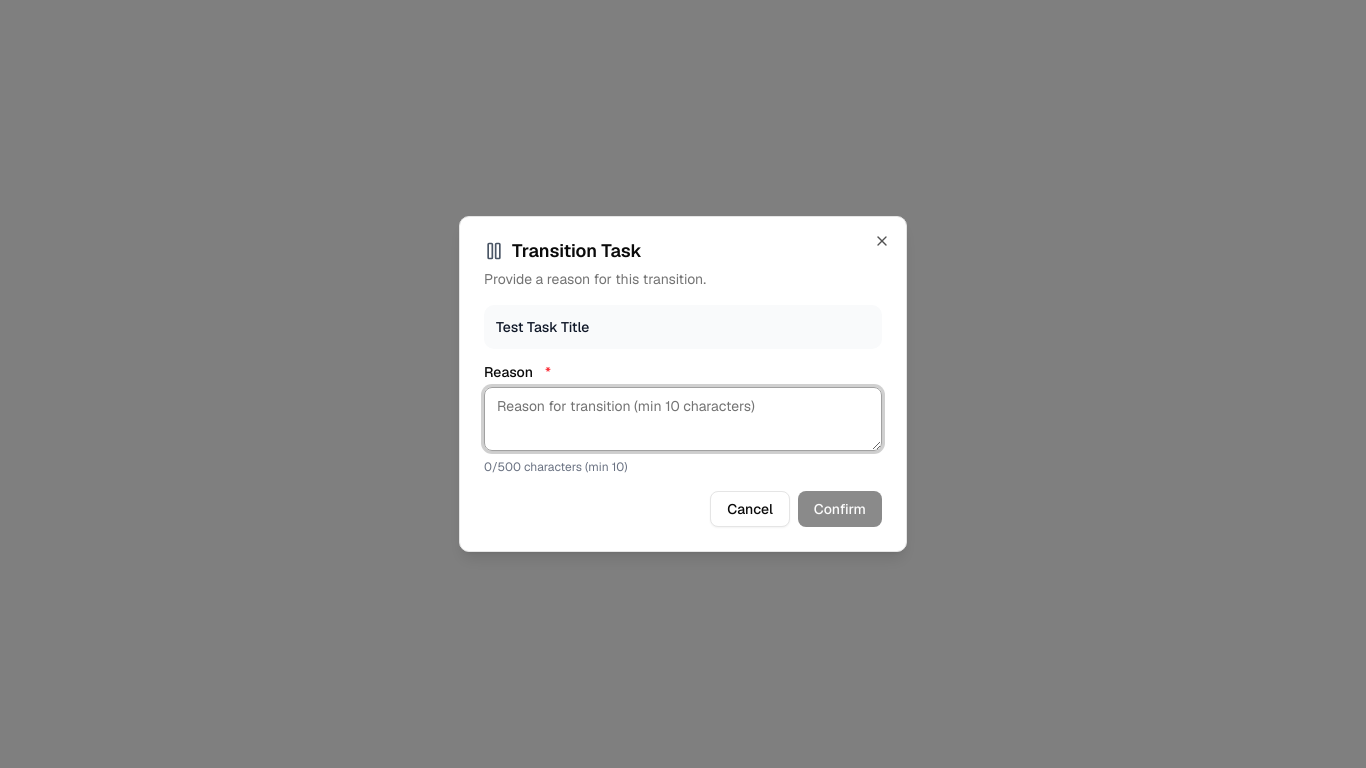
Scenario: TransitionReasonModal › updates character count when typing
The width and height of the screenshot is (1366, 768).
In the text box: [683, 419] box [484,387,882,451], type "Testing reason"
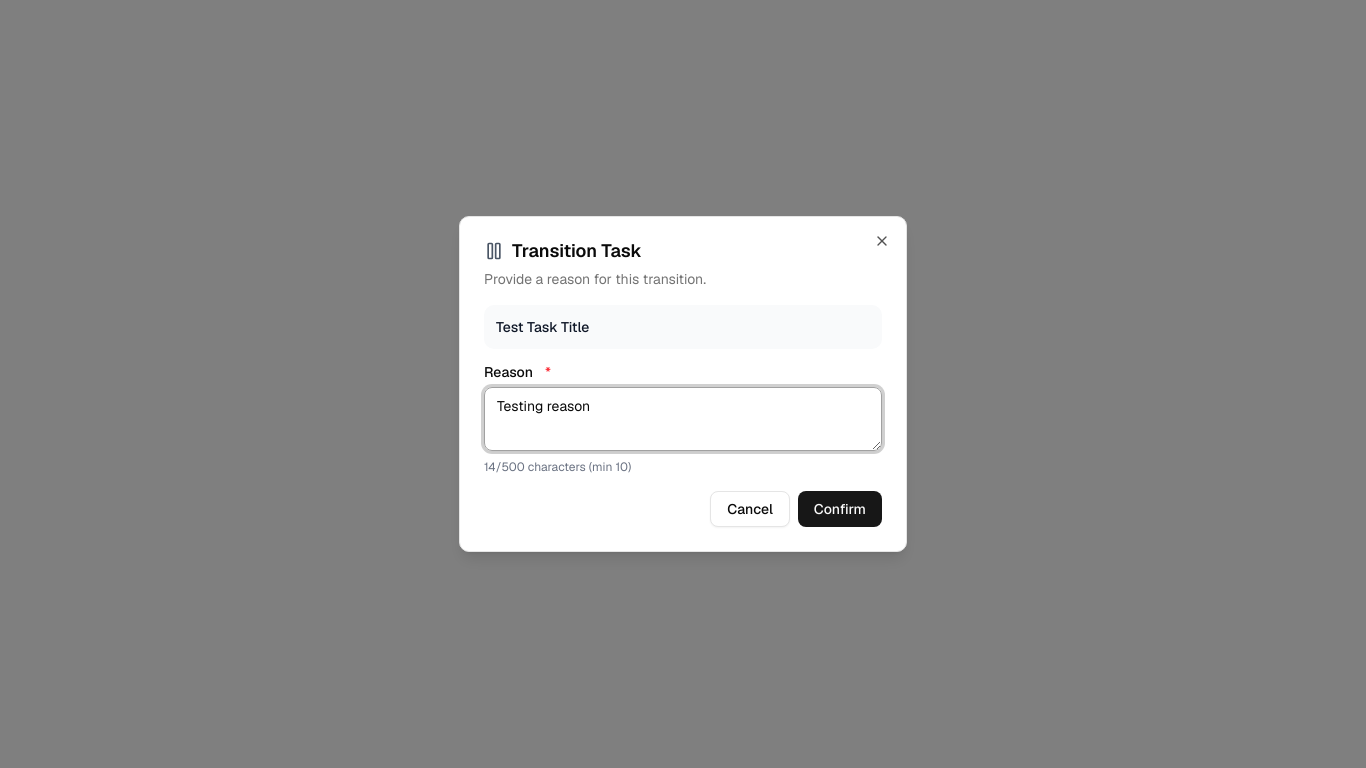
Expected: the text "14/500 characters (min 10)" is shown, [484,459,631,475]
